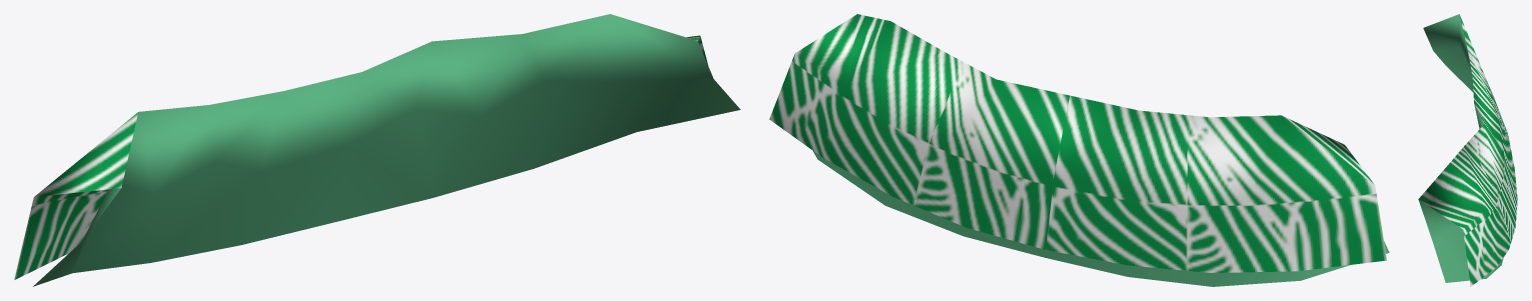
Rendered from Kerah.fbx.
3 views of the same model, side by side, from view 1: azimuth 30°, elevation 25°; view 2: azimuth 150°, elevation 25°; view 3: azimuth 270°, elevation 25° (orthographic). The views are drawn at different scales.
Parts seen in each view (by area): view 1: Kerah.004; view 2: Kerah.004; view 3: Kerah.004.
Boxes of the visible parts, x1,y1,x2,y2 form: Kerah.004: (14, 14, 740, 286); Kerah.004: (769, 14, 1389, 286); Kerah.004: (1418, 14, 1517, 286).
Size of the model in its own units: 145 by 37.87 by 27.34.
Materials: 2 (1 with a texture image).
